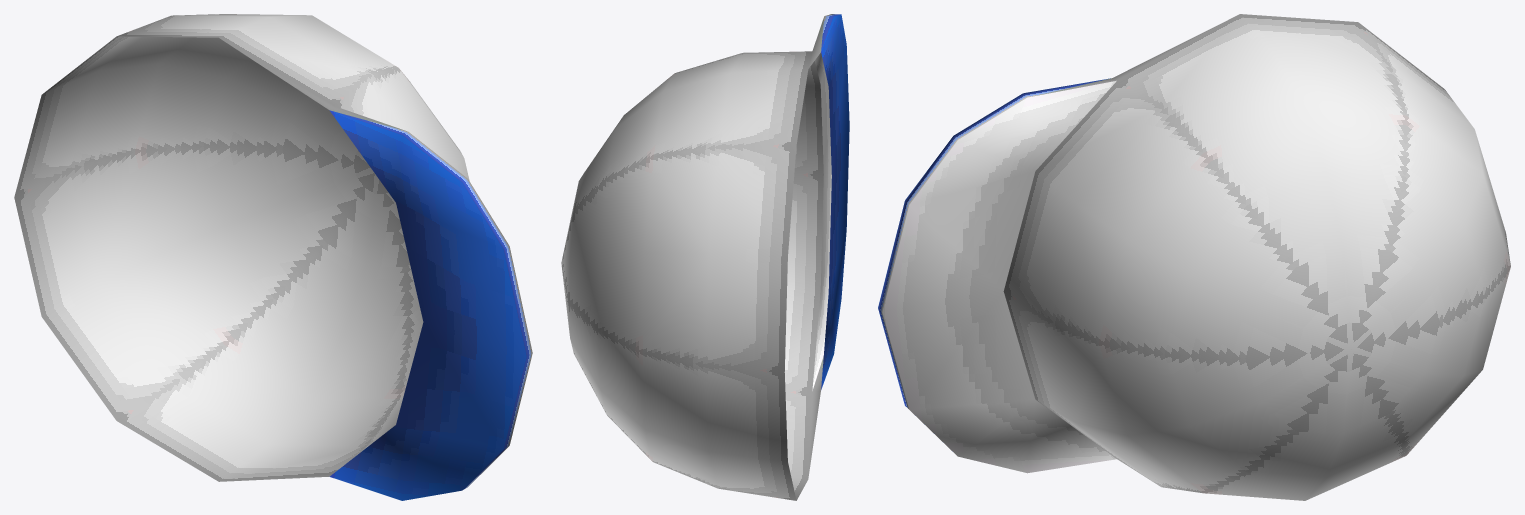
Rendered from cap_cap_group_whiteBlue.dae.
The picture shows the model from 3 angles, left to right: view 1: azimuth 30°, elevation 25°; view 2: azimuth 150°, elevation 25°; view 3: azimuth 270°, elevation 25°; orthographic projection. The views are drawn at different scales.
Parts seen in each view (by area): view 1: cap_cap_group_whiteBlue; view 2: cap_cap_group_whiteBlue; view 3: cap_cap_group_whiteBlue.
Boxes of the visible parts, x1=… form: cap_cap_group_whiteBlue: x1=14, y1=14, x2=532, y2=500; cap_cap_group_whiteBlue: x1=561, y1=14, x2=849, y2=500; cap_cap_group_whiteBlue: x1=878, y1=14, x2=1510, y2=500.
Size of the model in its own units: 16.08 by 21.14 by 26.58.
1 material, 1 textured.
